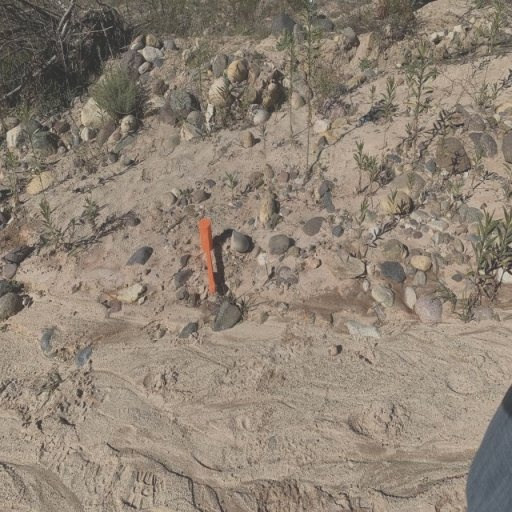mallet: (198, 216, 221, 296)
